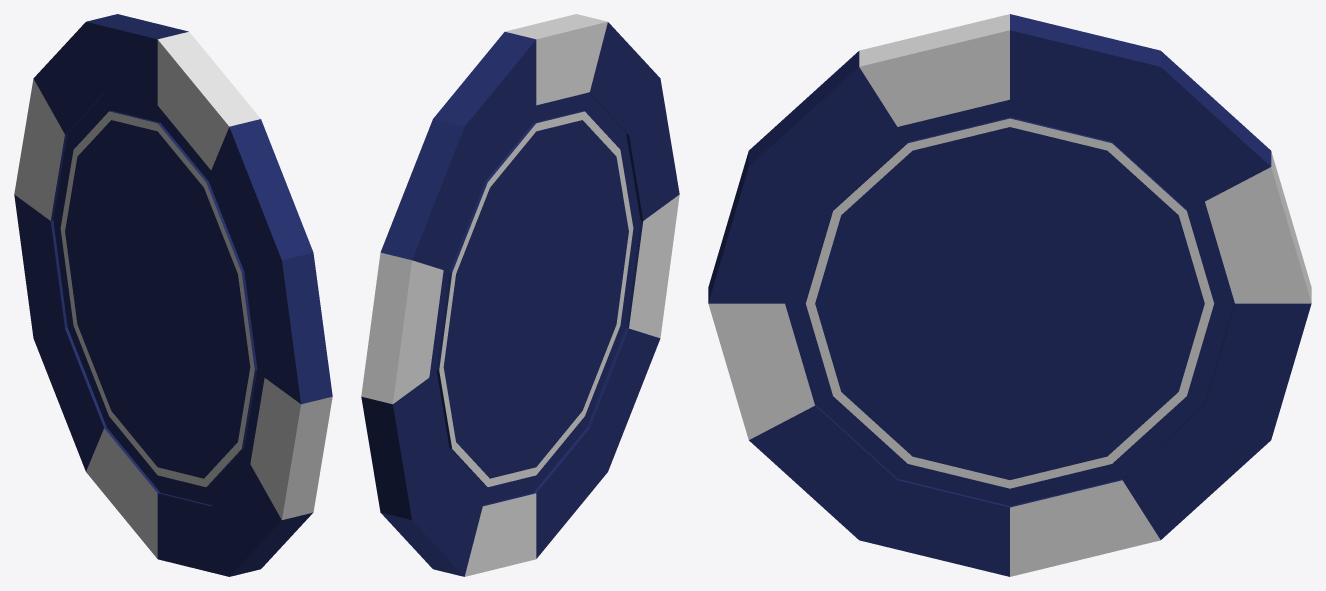
Rendered from SM_Chip01.fbx.
The picture shows the model from 3 angles, left to right: view 1: azimuth 30°, elevation 25°; view 2: azimuth 150°, elevation 25°; view 3: azimuth 270°, elevation 25°; orthographic projection. The views are drawn at different scales.
Parts seen in each view (by area): view 1: Chip01; view 2: Chip01; view 3: Chip01.
Part boxes in pixels (x1=…): Chip01: x1=14, y1=14, x2=332, y2=576; Chip01: x1=361, y1=14, x2=679, y2=576; Chip01: x1=708, y1=14, x2=1311, y2=576.
Bounding box in the file's own units: 12.73 × 200 × 200.
